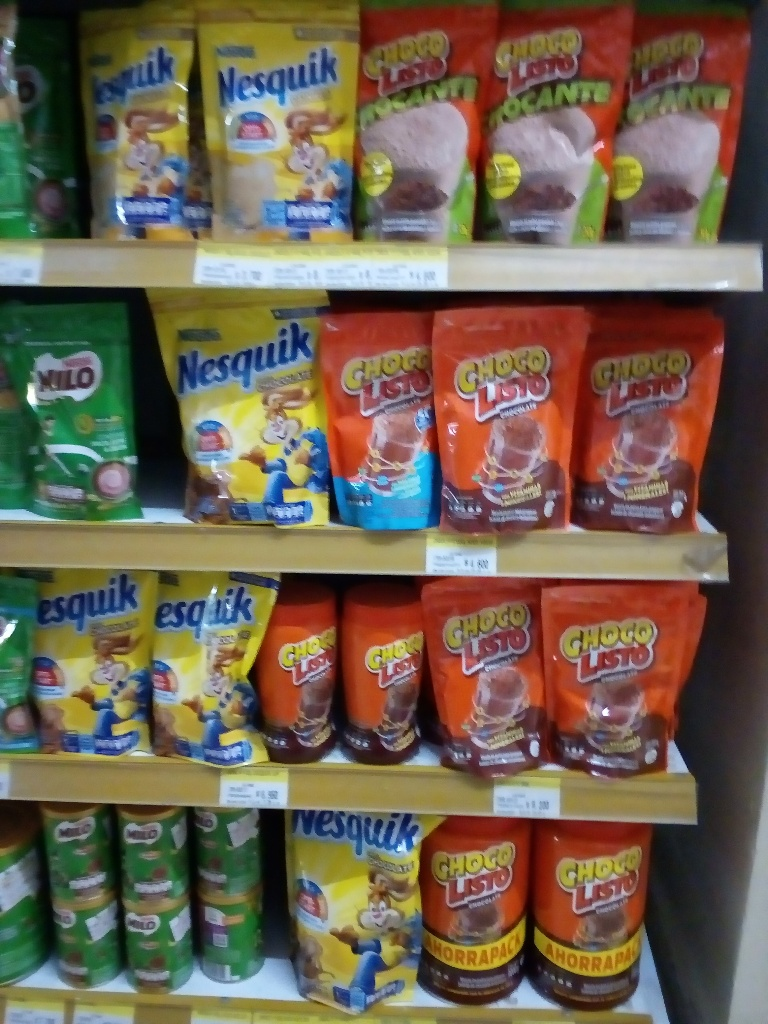COL0170103TRR00100: (414, 813, 533, 1007)
COL0170104DYP20000: (314, 311, 453, 532)
COL0170203LAT20000: (43, 805, 122, 902)
COL0170306DYP20000: (72, 7, 202, 241)
